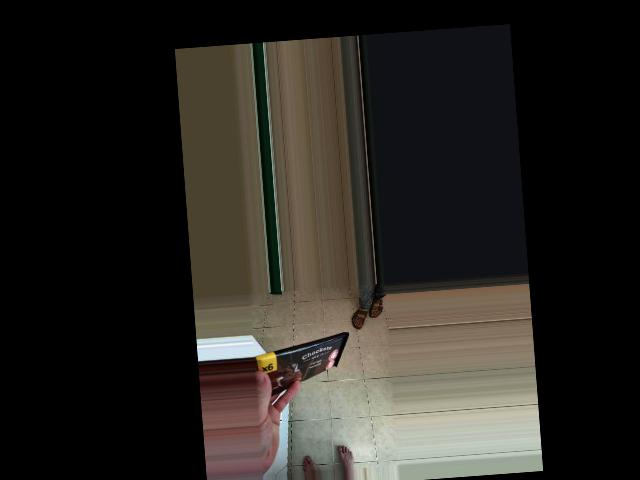chocolate: (290, 321, 377, 427)
